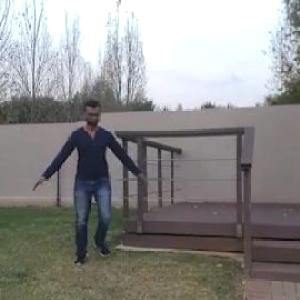land: (40, 90, 151, 281)
